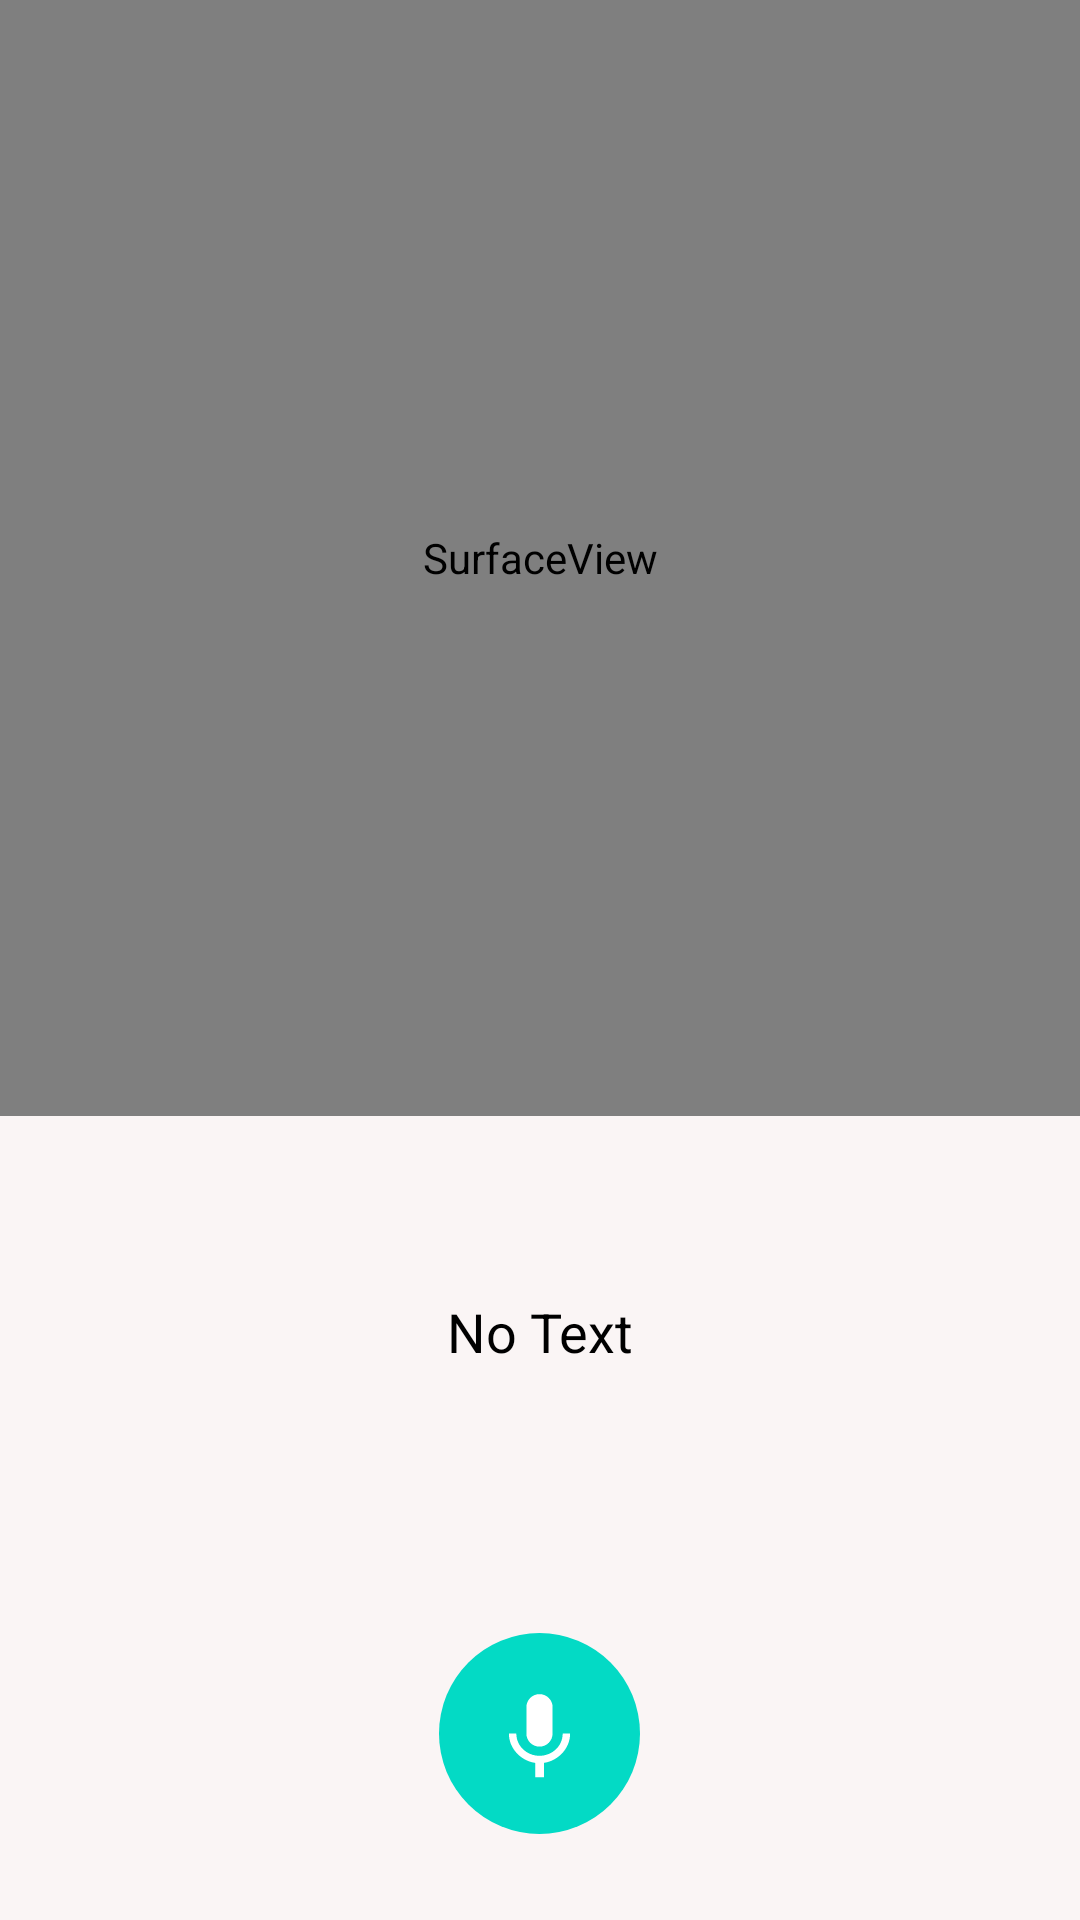

Screen size 1080 × 1920. Icon name, then its center in pixels as (x,y):
keyboard voice: (539,1733)
